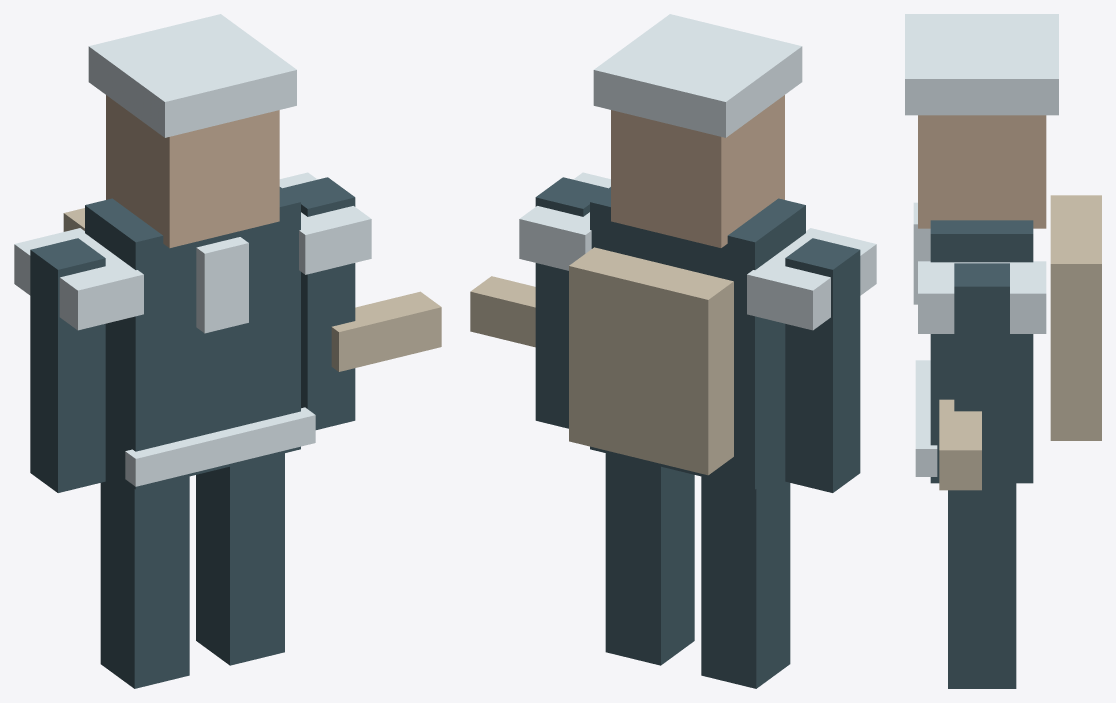
Rendered from 09_pax_starfall_specialist_of_revision.glb.
The picture shows the model from 3 angles, left to right: view 1: azimuth 30°, elevation 25°; view 2: azimuth 150°, elevation 25°; view 3: azimuth 270°, elevation 25°; orthographic projection.
Visible parts, largest first — view 1: Pax Starfall, Specialist of Revision; view 2: Pax Starfall, Specialist of Revision; view 3: Pax Starfall, Specialist of Revision.
Boxes of the visible parts, box(x1,y1,x2,y2) form: Pax Starfall, Specialist of Revision: box(14, 14, 441, 688); Pax Starfall, Specialist of Revision: box(470, 14, 876, 688); Pax Starfall, Specialist of Revision: box(905, 14, 1101, 688).
Bounding box in the file's own units: 1.07 × 1.63 × 0.4789.
